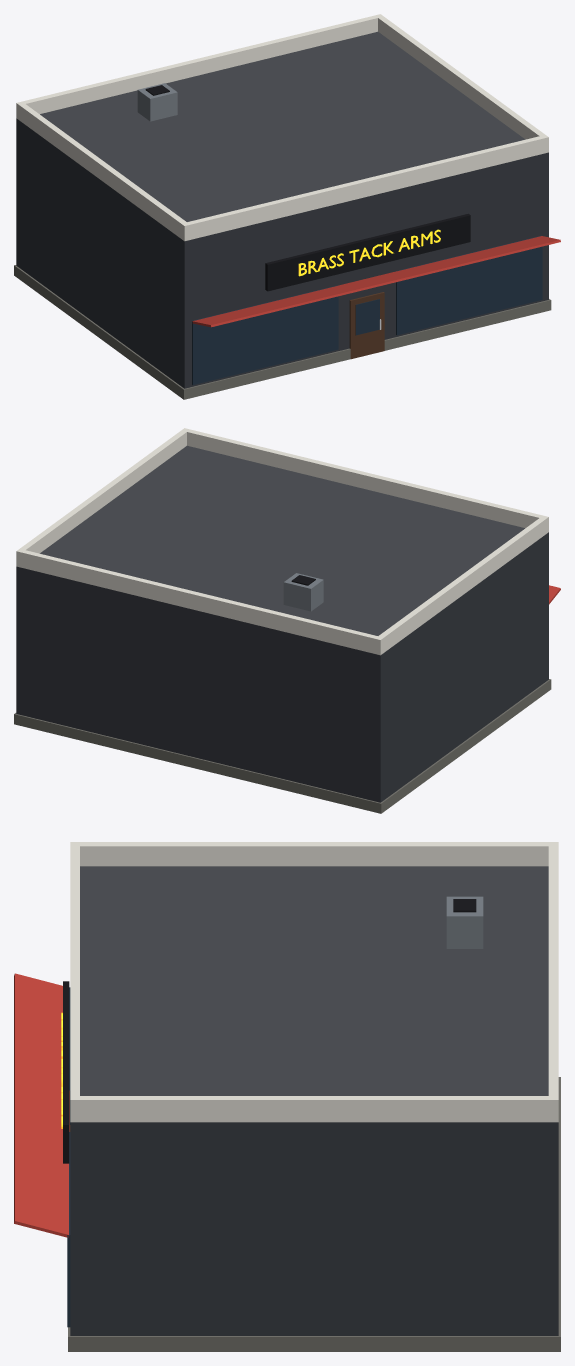
The model's file is shop_guns.glb.
The picture shows the model from 3 angles, top to bottom: view 1: azimuth 30°, elevation 25°; view 2: azimuth 150°, elevation 25°; view 3: azimuth 270°, elevation 25°; orthographic projection. The views are drawn at different scales.
Parts seen in each view (by area): view 1: shop_guns_Body, shop_guns_SignBoard, shop_guns_Sign; view 2: shop_guns_Body; view 3: shop_guns_Body, shop_guns_SignBoard.
Part boxes in pixels (x1,y1,x2,y2): shop_guns_Body: (14, 14, 560, 399); shop_guns_SignBoard: (265, 213, 470, 291); shop_guns_Sign: (298, 229, 440, 276); shop_guns_Body: (14, 428, 560, 813); shop_guns_Body: (14, 842, 560, 1351); shop_guns_SignBoard: (63, 981, 69, 1163).
Bounding box in the file's own units: 15.12 × 7.2 × 13.44.
